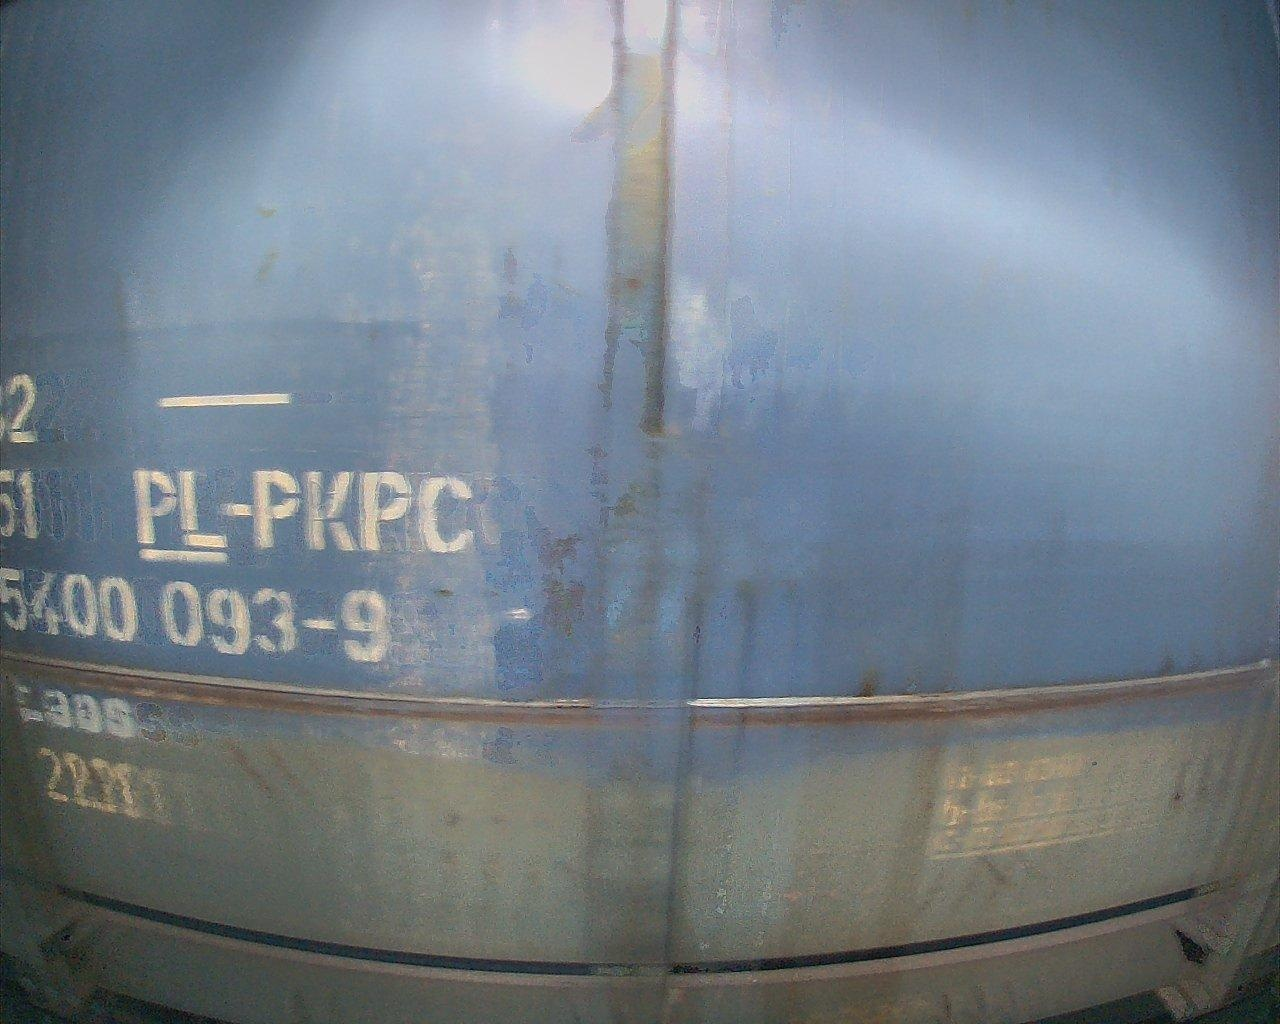UIC: (1, 369, 478, 820)
